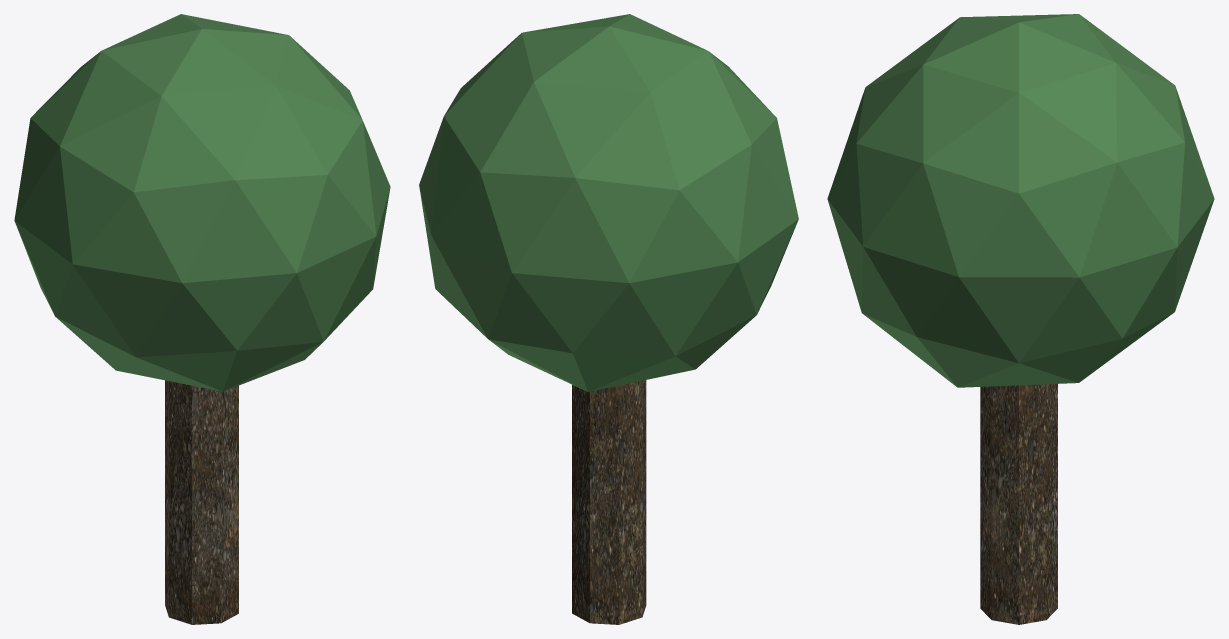
Rendered from swamp_tree.glb.
3 renders of one model, left to right at view 1: azimuth 30°, elevation 25°; view 2: azimuth 150°, elevation 25°; view 3: azimuth 270°, elevation 25°, orthographic.
Parts seen in each view (by area): view 1: swamp_tree; view 2: swamp_tree; view 3: swamp_tree.
Part boxes in pixels (left/top/right/bottom): swamp_tree: left=14, top=14, right=390, bottom=624; swamp_tree: left=419, top=14, right=798, bottom=624; swamp_tree: left=827, top=14, right=1214, bottom=624.
Bounding box in the file's own units: 1.73 × 3.01 × 1.8.
Materials: 2 (1 with a texture image).
